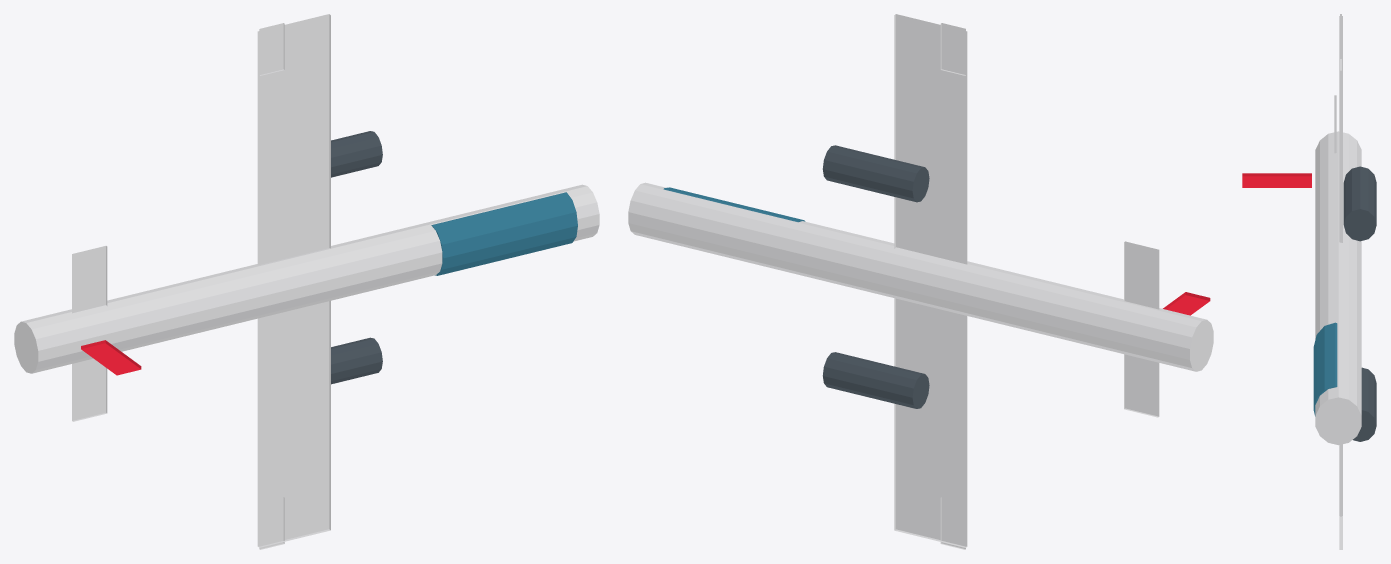
The picture shows the model from 3 angles, left to right: view 1: azimuth 30°, elevation 25°; view 2: azimuth 150°, elevation 25°; view 3: azimuth 270°, elevation 25°; orthographic projection. The views are drawn at different scales.
Parts seen in each view (by area): view 1: Boeing 777-300ER; view 2: Boeing 777-300ER; view 3: Boeing 777-300ER.
Boxes of the visible parts, bbox=[...] form: Boeing 777-300ER: bbox=[14, 14, 599, 549]; Boeing 777-300ER: bbox=[628, 14, 1213, 549]; Boeing 777-300ER: bbox=[1242, 14, 1376, 549].
Size of the model in its own units: 73.9 by 65.45 by 15.77.
